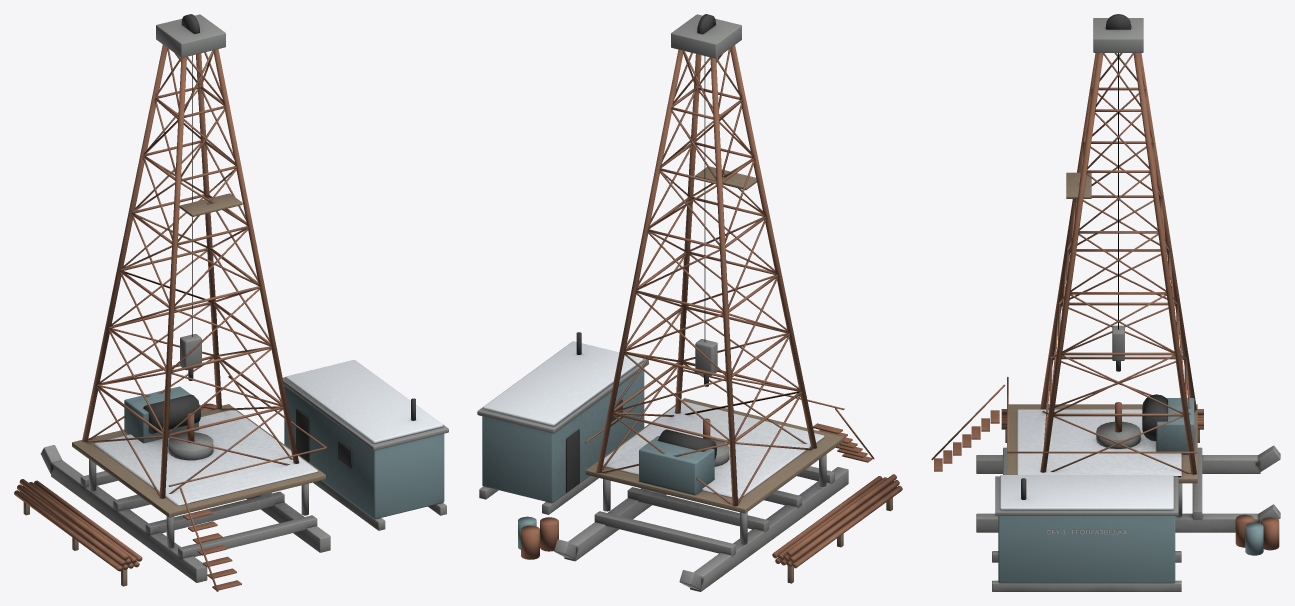
Rendered from drill_rig.glb.
3 renders of one model, left to right at view 1: azimuth 30°, elevation 25°; view 2: azimuth 150°, elevation 25°; view 3: azimuth 270°, elevation 25°, orthographic. The views are drawn at different scales.
Visible parts, largest first — view 1: drill_rig; view 2: drill_rig; view 3: drill_rig.
Boxes of the visible parts, x1=… form: drill_rig: x1=14, y1=14, x2=448, y2=591; drill_rig: x1=477, y1=14, x2=902, y2=591; drill_rig: x1=931, y1=14, x2=1280, y2=591.
Bounding box in the file's own units: 11.69 × 16.95 × 11.05.
1 material, 1 textured.
